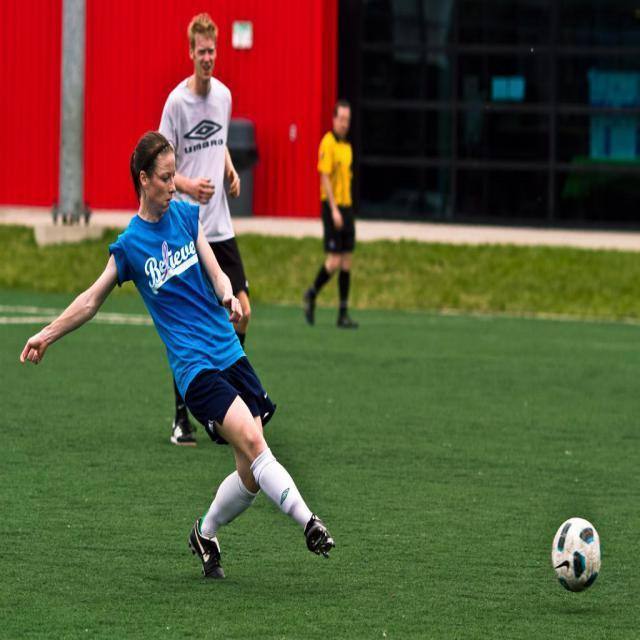ball: (555, 516, 603, 594)
